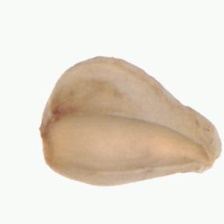L1: (198, 117, 222, 174), (38, 98, 60, 158)
L2: (39, 55, 222, 187)
